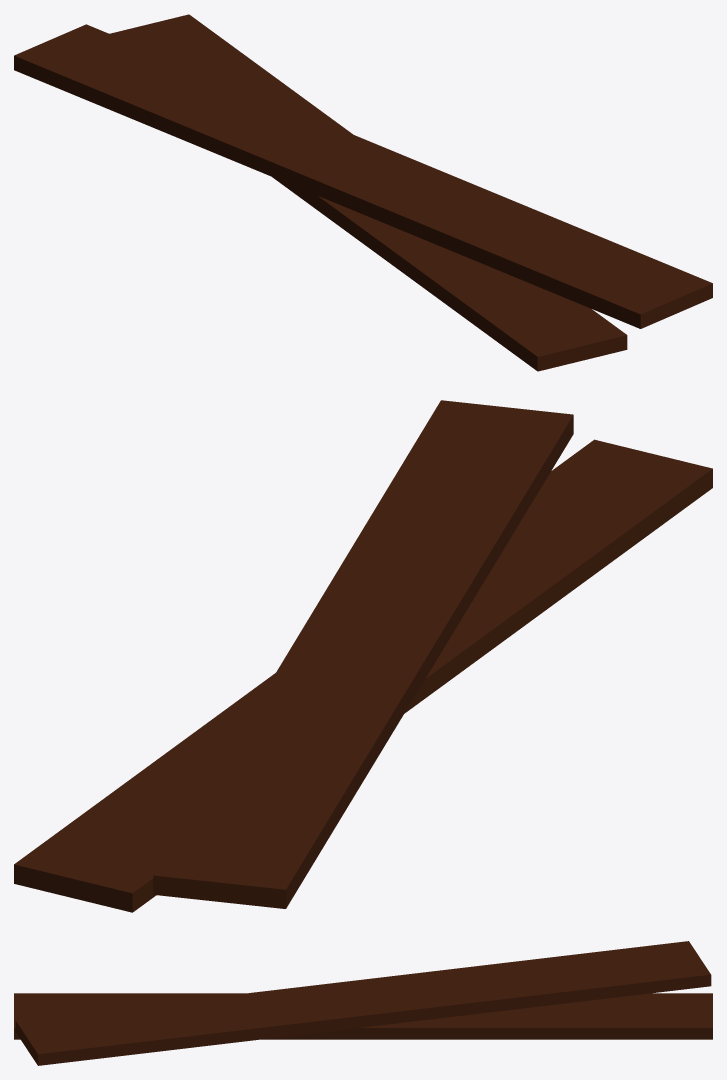
File: wood.fbx
3 renders of one model, top to bottom at view 1: azimuth 30°, elevation 25°; view 2: azimuth 150°, elevation 25°; view 3: azimuth 270°, elevation 25°, orthographic. The views are drawn at different scales.
Visible parts, largest first — view 1: Cube; view 2: Cube; view 3: Cube.
Boxes of the visible parts, box(x1,y1,x2,y2) form: Cube: box(14, 14, 712, 371); Cube: box(14, 400, 712, 912); Cube: box(14, 941, 712, 1065).
Size of the model in its own units: 649 by 65.87 by 1694.
